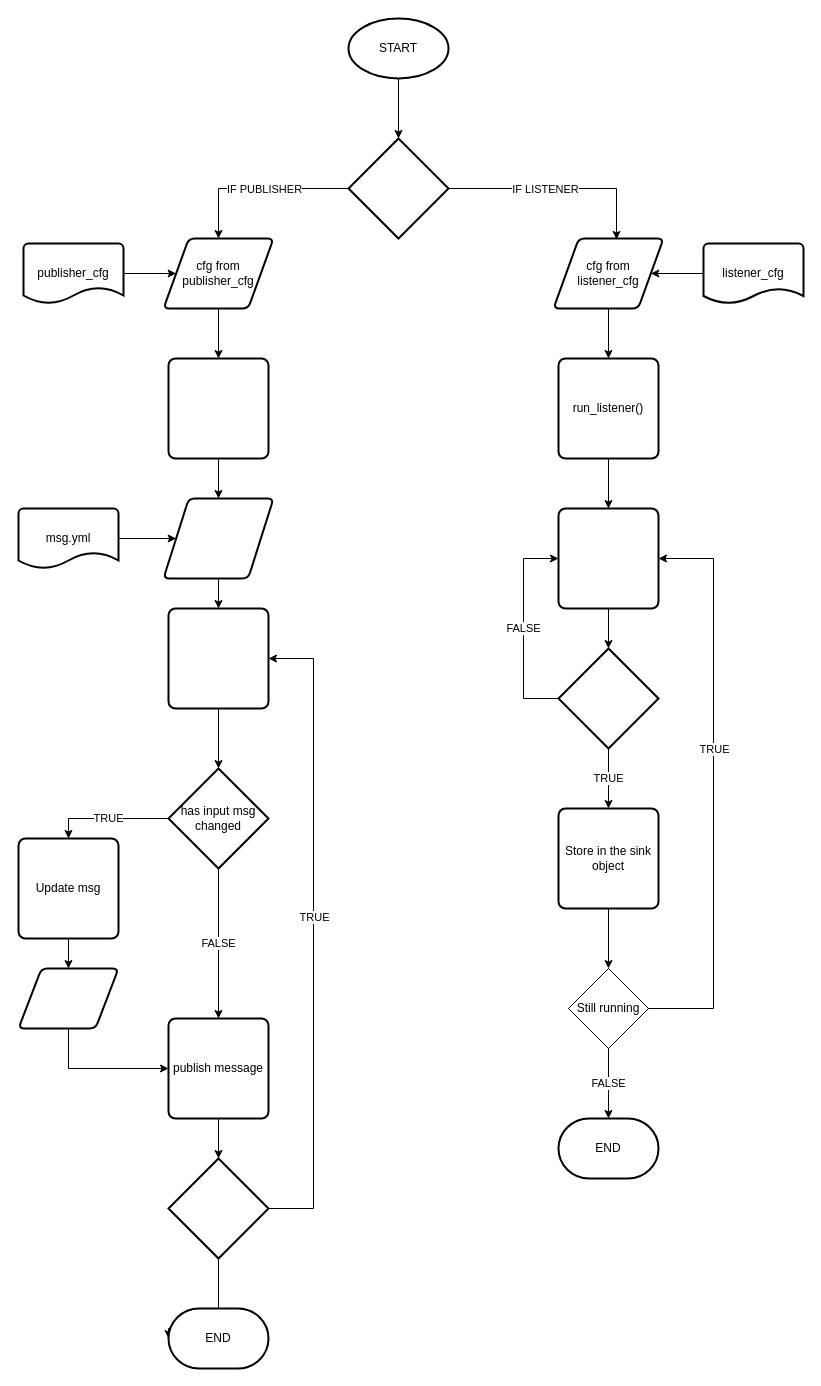
This 821x1386 diagram has some shape labels left out. The shapes that lost their labels are listed below. From the top down, each one's centre as x and y in pixels, then its label:
At [218,408]: "run_publisher()".
At [218,538]: "init message from yml file".
At [608,558]: "Listen for incoming msg".
At [218,658]: "Read msg from outside source".
At [608,698]: "New incoming msg".
At [68,998]: "msg data".
At [218,1208]: "Is publisher is still active".
